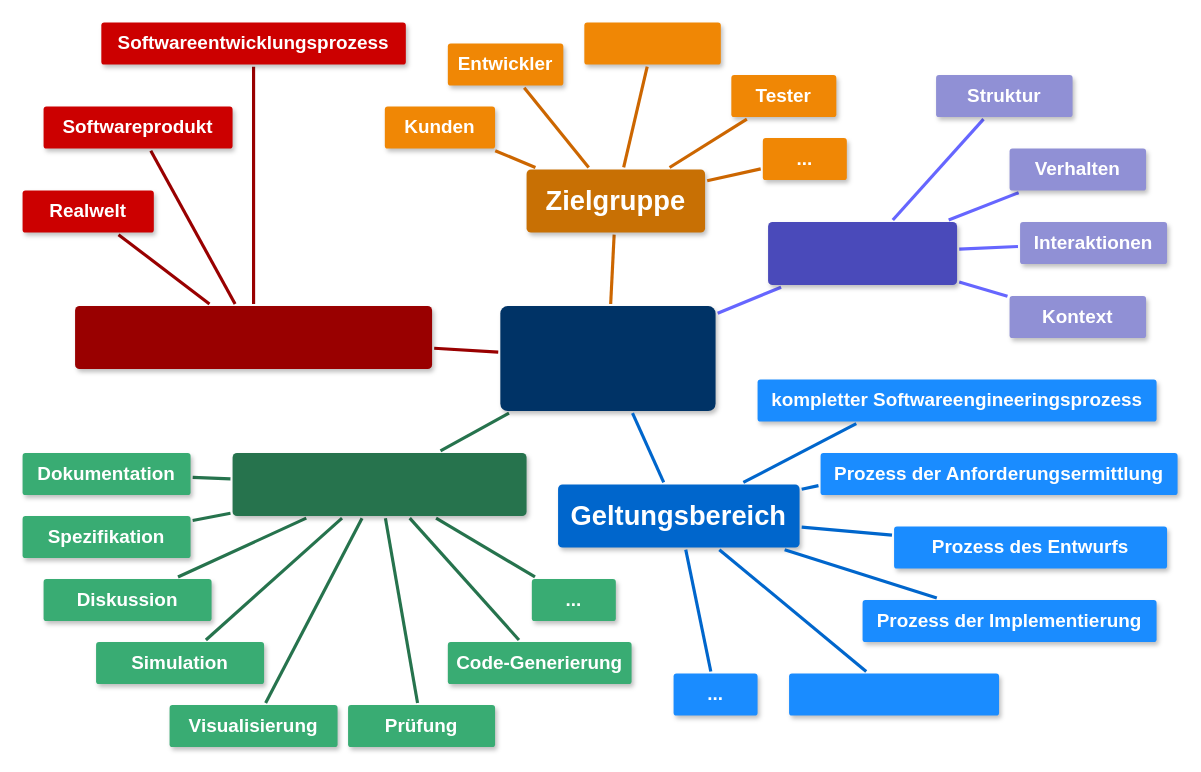
The diagram is 1201 pixels wide and 772 high, and some of its shapes have lost their labels. The centre of each missing label's shape, as x and y in pixels:
"Management" goes at (x=653, y=44).
"Modell" goes at (x=608, y=359).
"Modellierungsgegenstand" goes at (x=254, y=338).
"Modellierungszweck" goes at (x=380, y=485).
"Perspektive" goes at (x=863, y=254).
"Prozess des Testens" goes at (x=894, y=695).
